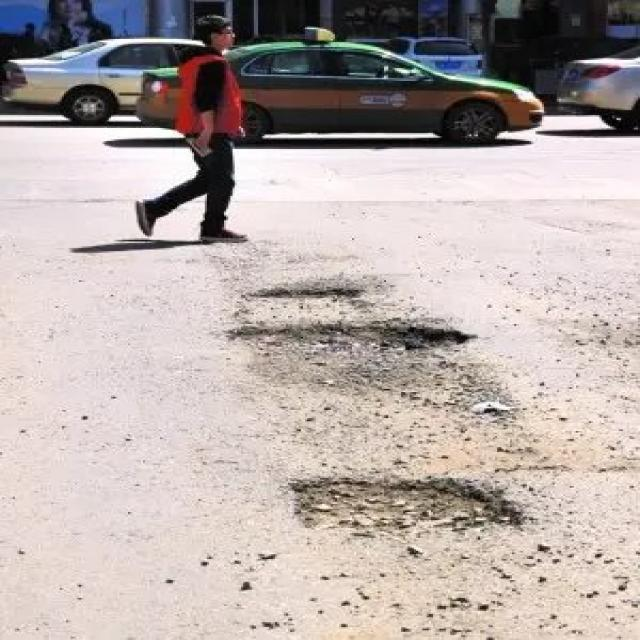Pothole: (260, 467, 538, 541), (213, 314, 500, 376), (237, 284, 365, 306)
